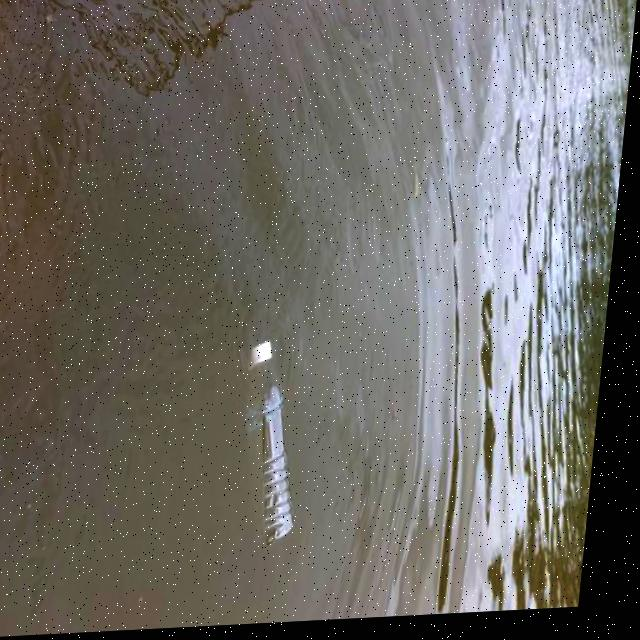waterbottle: (241, 331, 320, 564)
